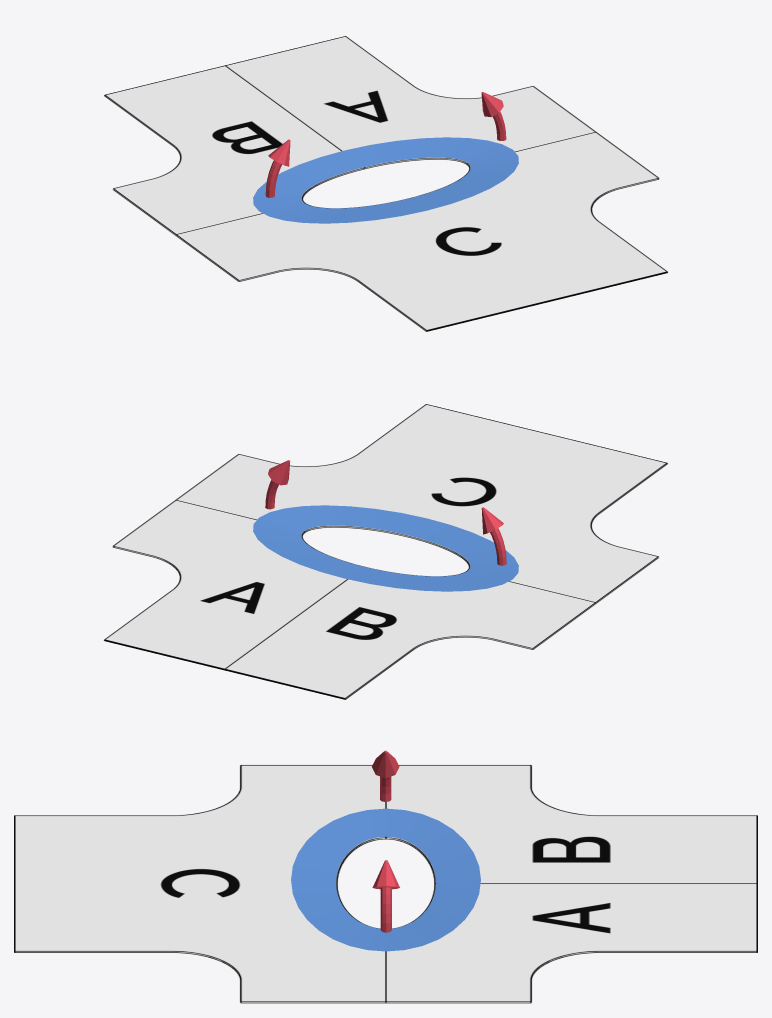
Rendered from sewing_arrow_test.glb.
The picture shows the model from 3 angles, top to bottom: view 1: azimuth 30°, elevation 25°; view 2: azimuth 150°, elevation 25°; view 3: azimuth 270°, elevation 25°; orthographic projection. The views are drawn at different scales.
Visible parts, largest first — view 1: sewing step 6, Circle, arrow.001, arrow; view 2: sewing step 6, Circle, arrow.001, arrow; view 3: sewing step 6, Circle, arrow, arrow.001.
Boxes of the visible parts, bbox=[...] form: sewing step 6: bbox=[104, 36, 668, 331]; Circle: bbox=[253, 137, 518, 223]; arrow.001: bbox=[265, 139, 290, 197]; arrow: bbox=[481, 92, 506, 140]; sewing step 6: bbox=[103, 404, 667, 699]; Circle: bbox=[253, 505, 518, 591]; arrow.001: bbox=[481, 507, 506, 565]; arrow: bbox=[265, 460, 290, 509]; sewing step 6: bbox=[14, 765, 757, 1003]; Circle: bbox=[291, 808, 480, 951]; arrow: bbox=[372, 860, 399, 932]; arrow.001: bbox=[372, 750, 399, 801].
Bounding box in the file's own units: 0.7557 × 0.1178 × 1.
3 materials, 1 textured.
